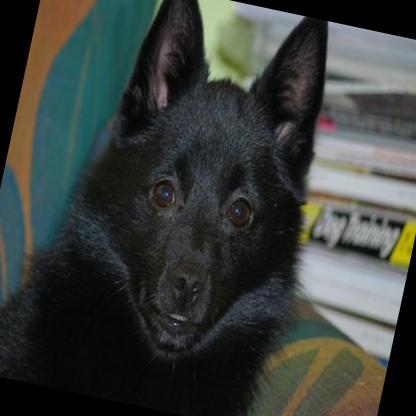schipperke: (0, 0, 361, 416)
